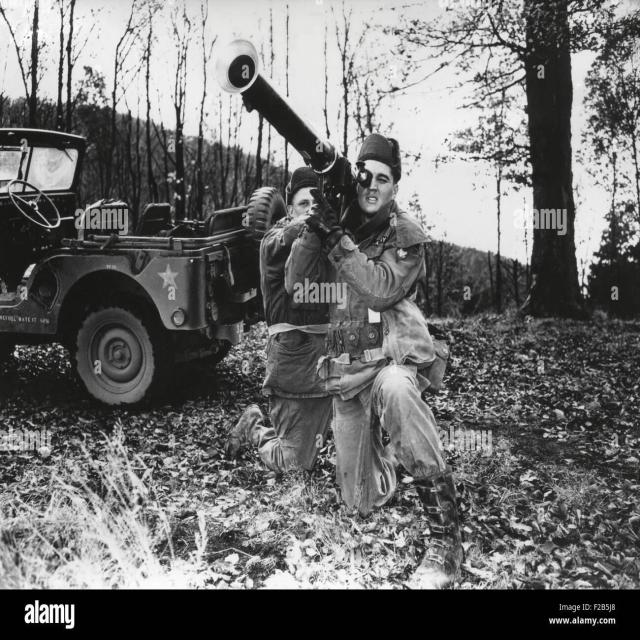bazooka: (209, 34, 370, 210)
